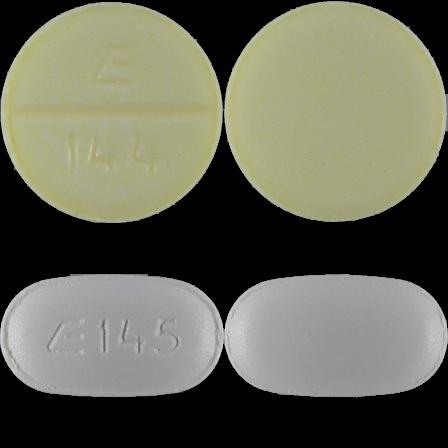0185-0144: (0, 0, 224, 224)
